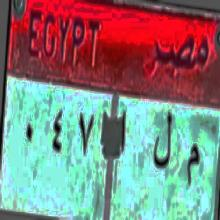0: (22, 108, 40, 156)
4: (48, 101, 69, 161)
7: (74, 112, 98, 162)
alif: (118, 109, 129, 153)
laam: (150, 109, 174, 173)
meem: (183, 135, 202, 198)
